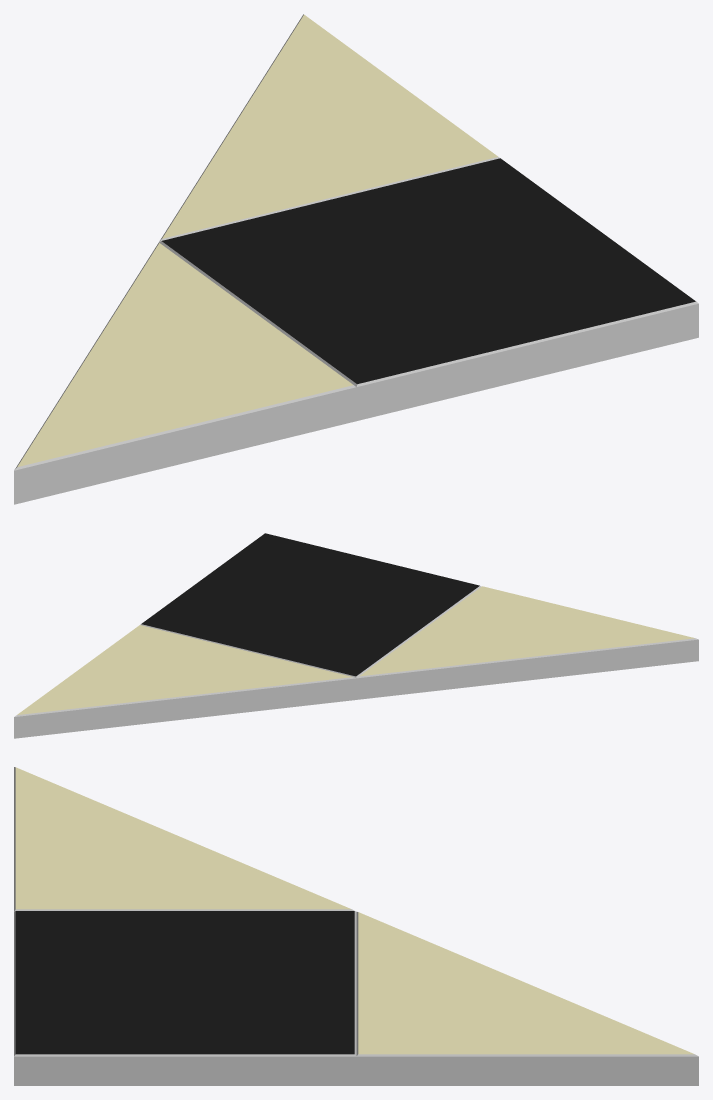
The model's file is Floor_45_exportprep.gltf.
3 views of the same model, one above another, from view 1: azimuth 30°, elevation 25°; view 2: azimuth 150°, elevation 25°; view 3: azimuth 270°, elevation 25° (orthographic). The views are drawn at different scales.
Visible parts, largest first — view 1: FloorTile.001; view 2: FloorTile.001; view 3: FloorTile.001.
Part boxes in pixels (x1,y1,x2,y2): FloorTile.001: (14,14,698,504); FloorTile.001: (14,533,698,738); FloorTile.001: (14,767,698,1085).
Bounding box in the file's own units: 2 × 0.1 × 2.
